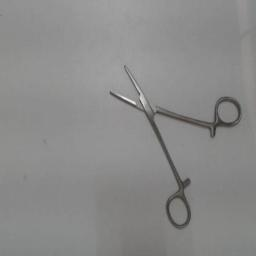Mayo Needle Holder: (104, 52, 244, 232)
